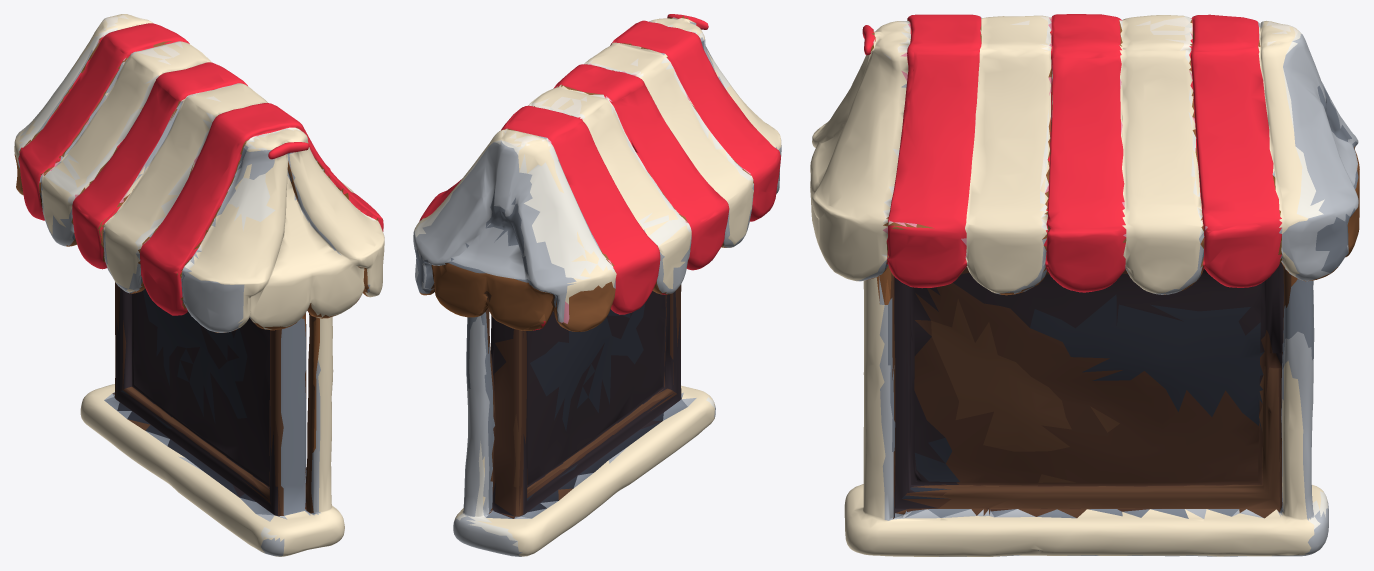
Rendered from SM_stall_awning.fbx.
3 views of the same model, side by side, from view 1: azimuth 30°, elevation 25°; view 2: azimuth 150°, elevation 25°; view 3: azimuth 270°, elevation 25° (orthographic). The views are drawn at different scales.
Parts seen in each view (by area): view 1: SM_stall_awning; view 2: SM_stall_awning; view 3: SM_stall_awning.
Boxes of the visible parts, box(x1,y1,x2,y2) form: SM_stall_awning: box(14, 14, 384, 556); SM_stall_awning: box(413, 14, 781, 556); SM_stall_awning: box(810, 14, 1359, 556).
Size of the model in its own units: 119 by 200 by 198.
1 material, 1 textured.
